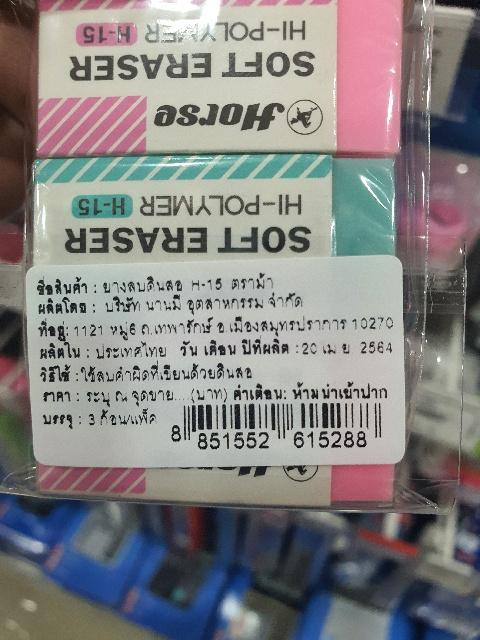Barcode: (167, 398, 393, 448)
